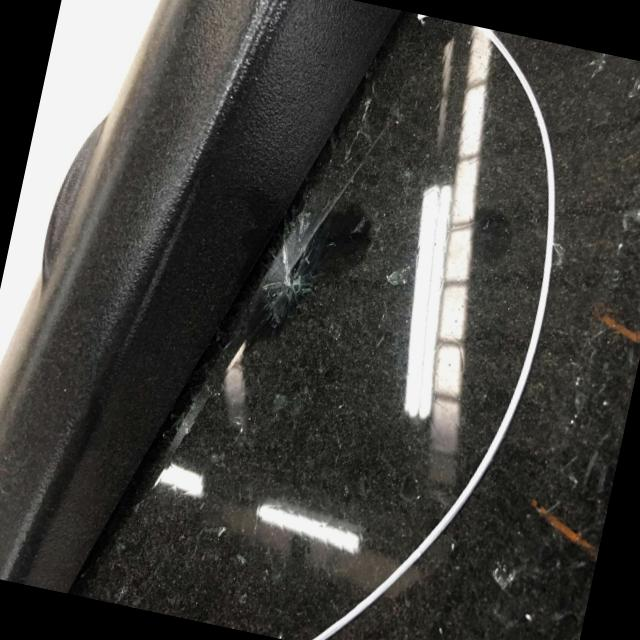Fissure: (289, 84, 411, 274), (248, 224, 326, 338)
